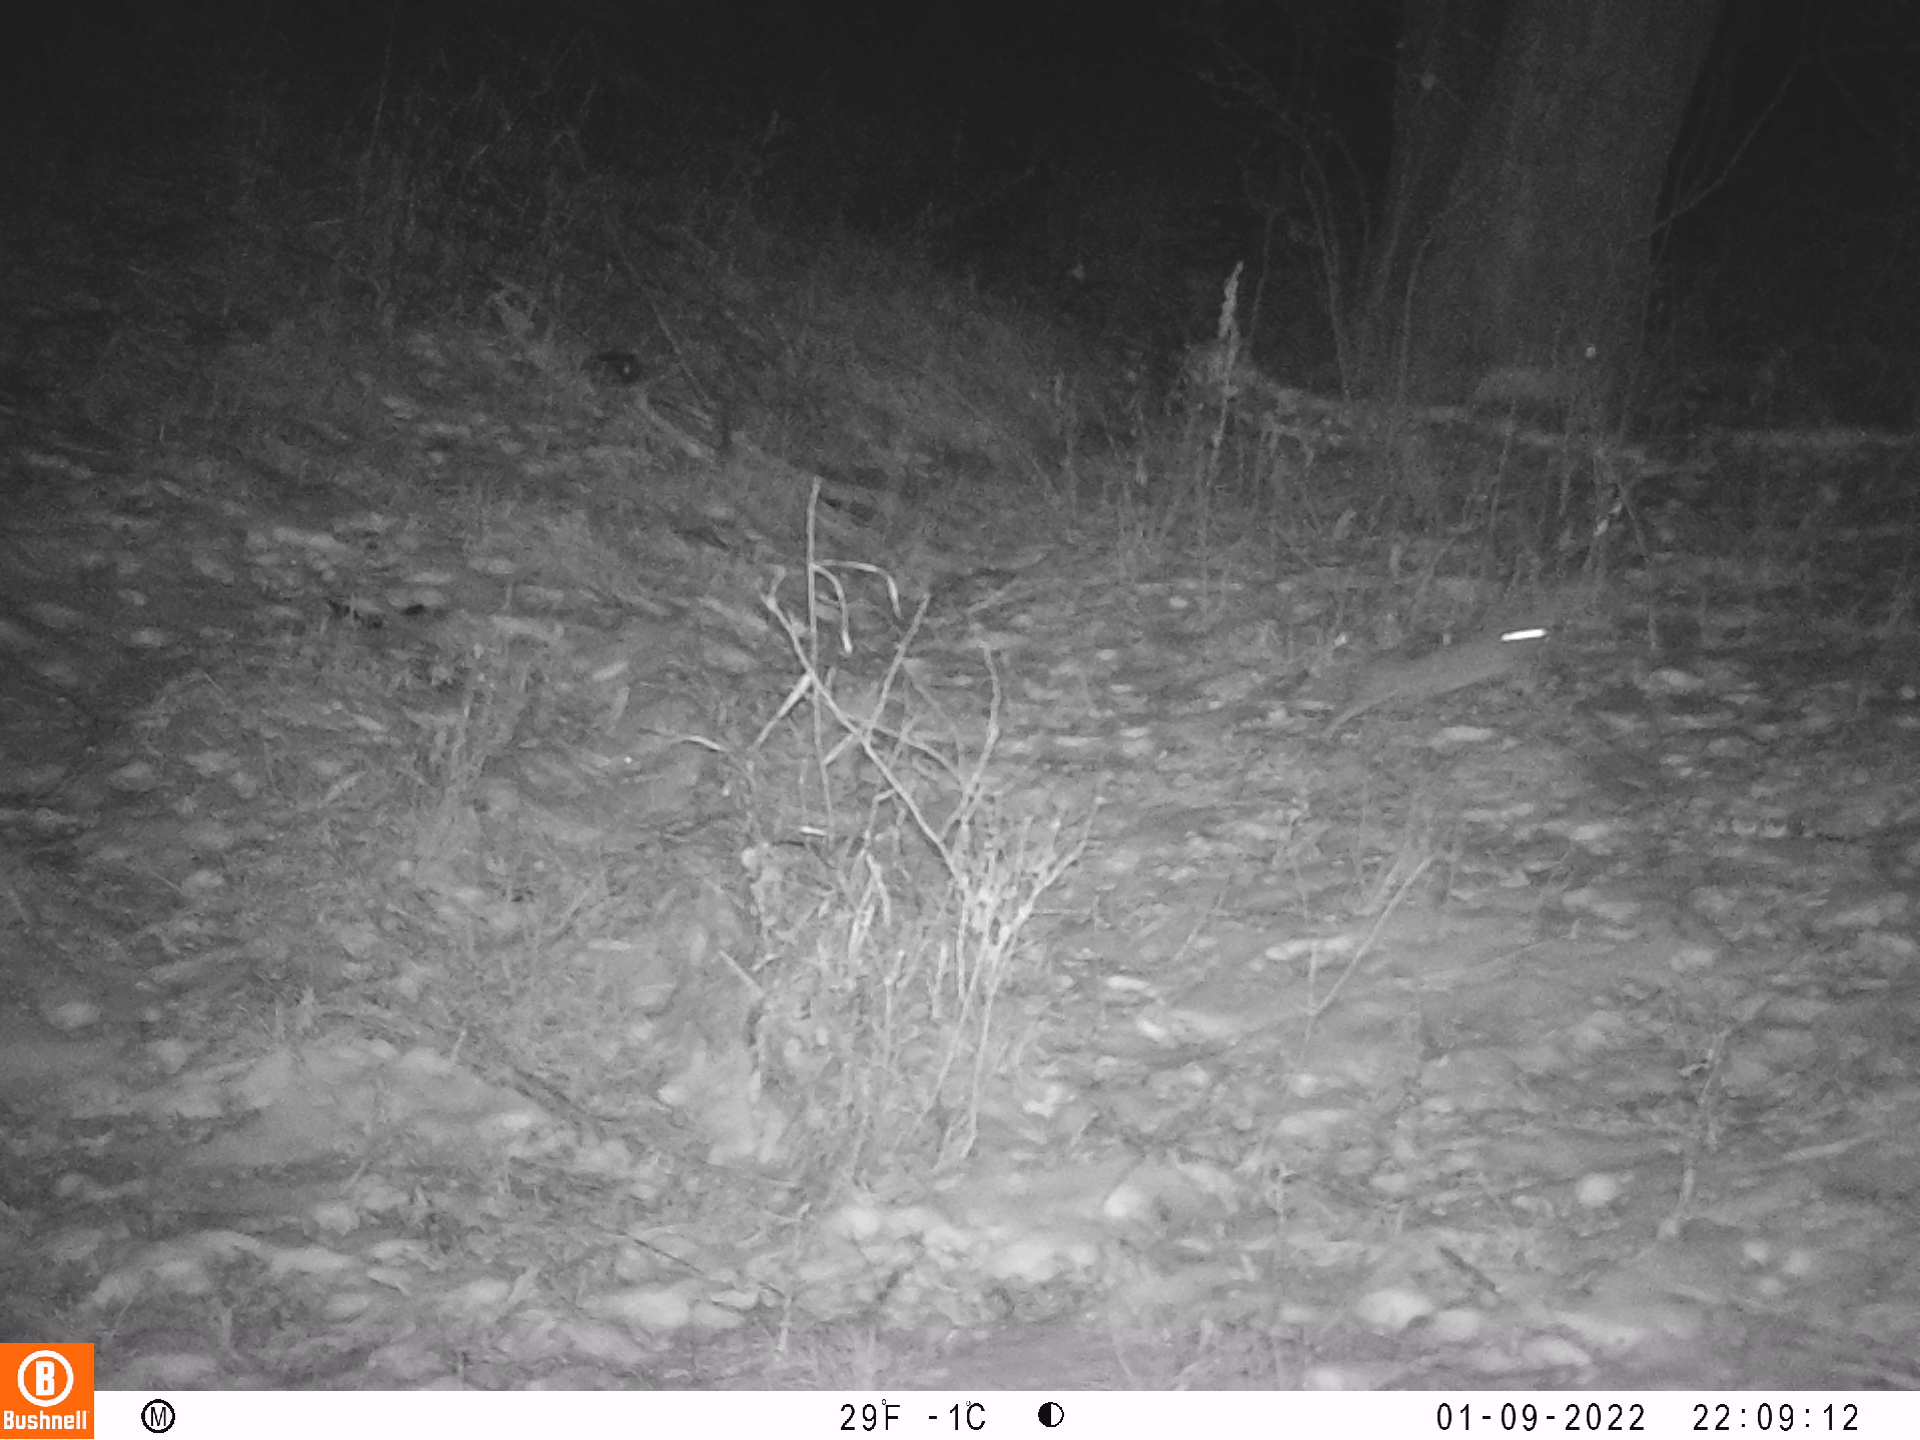Rabbit: (1326, 602, 1556, 734)
